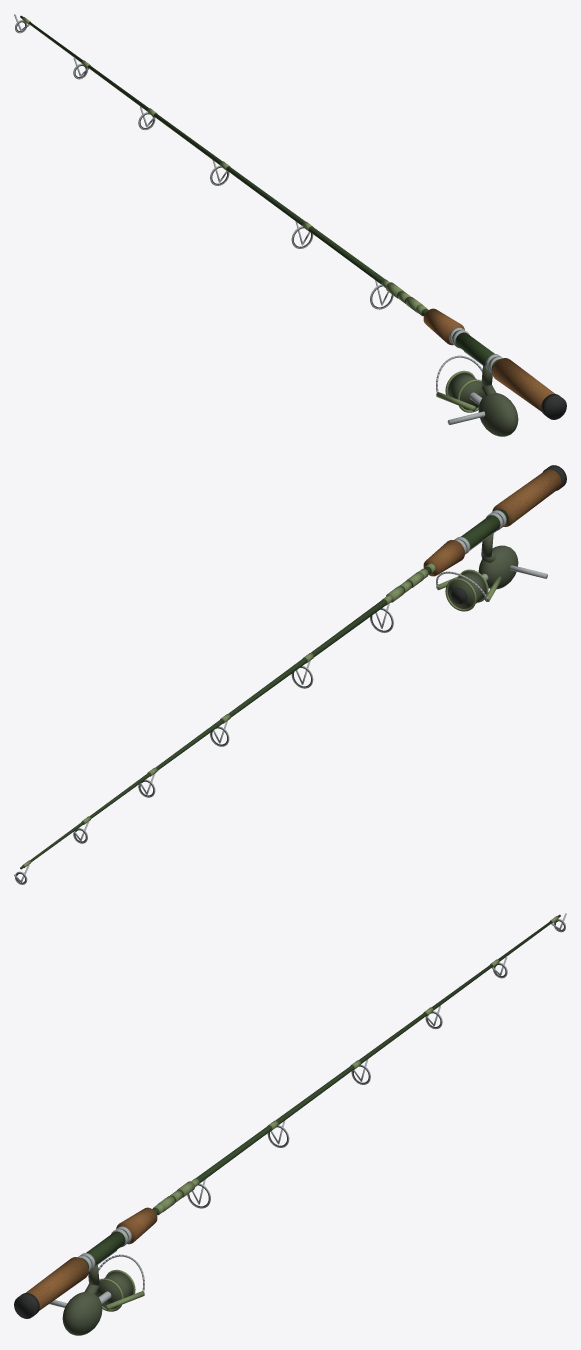
Rendered from willow_feeder.glb.
The picture shows the model from 3 angles, top to bottom: view 1: azimuth 30°, elevation 25°; view 2: azimuth 150°, elevation 25°; view 3: azimuth 330°, elevation 25°; orthographic projection.
Parts seen in each view (by area): view 1: Tapered carbon blank.008; view 2: Tapered carbon blank.008; view 3: Tapered carbon blank.008.
Part boxes in pixels (bbox=[...]): Tapered carbon blank.008: bbox=[14, 14, 566, 436]; Tapered carbon blank.008: bbox=[14, 465, 566, 884]; Tapered carbon blank.008: bbox=[14, 913, 566, 1335].
Size of the model in its own units: 0.1318 by 0.1315 by 1.64.
Materials: 8 (1 with a texture image).
